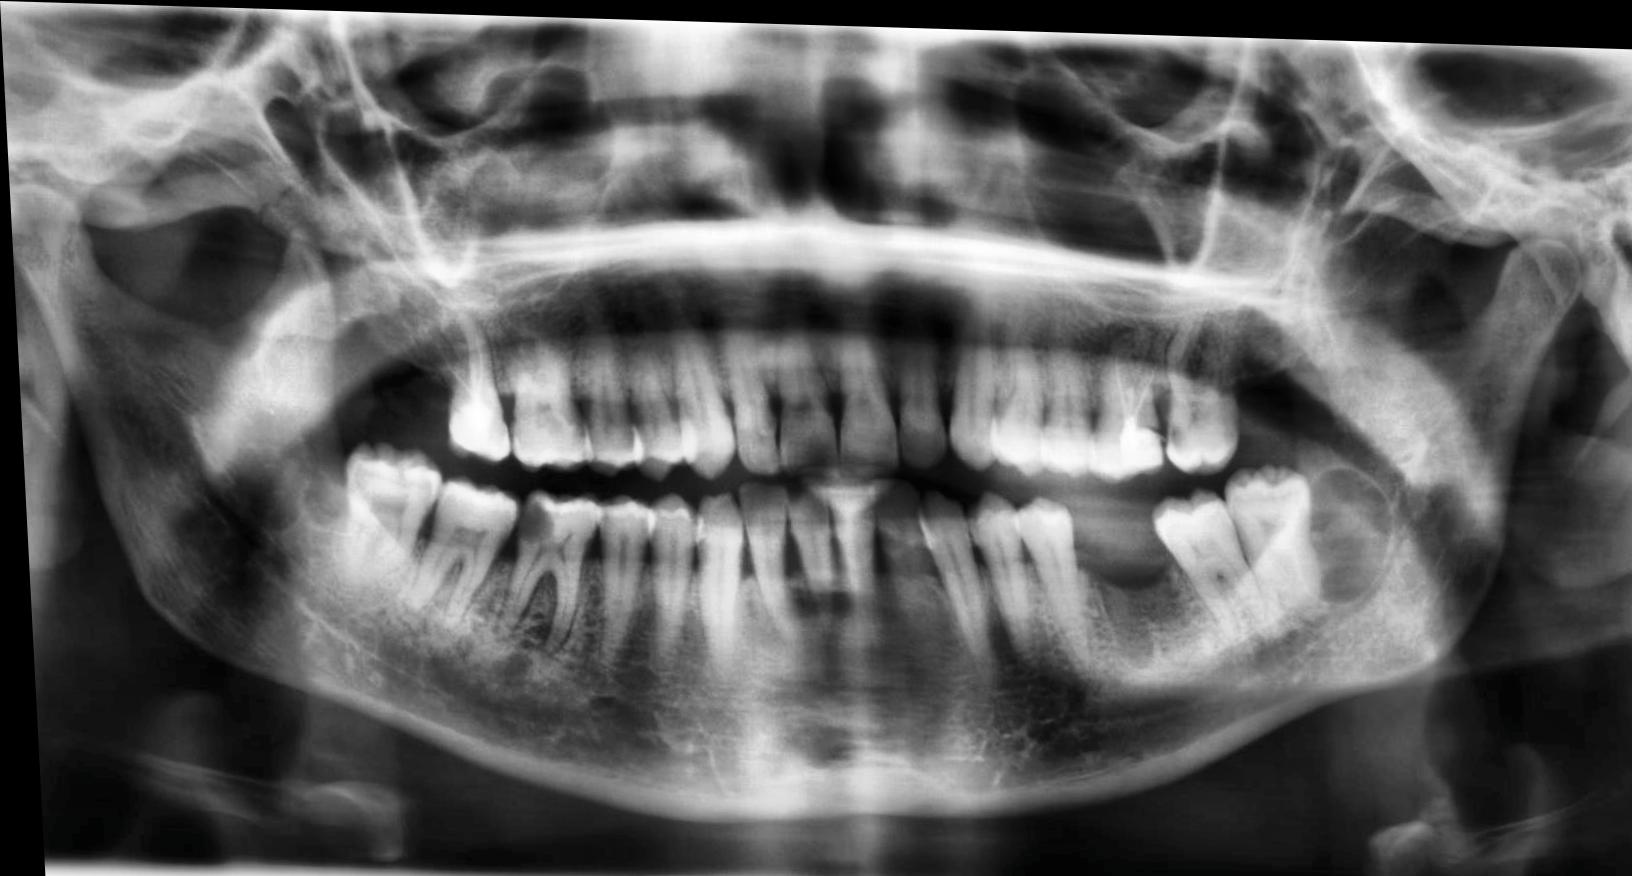okc: (1286, 455, 1393, 601)
